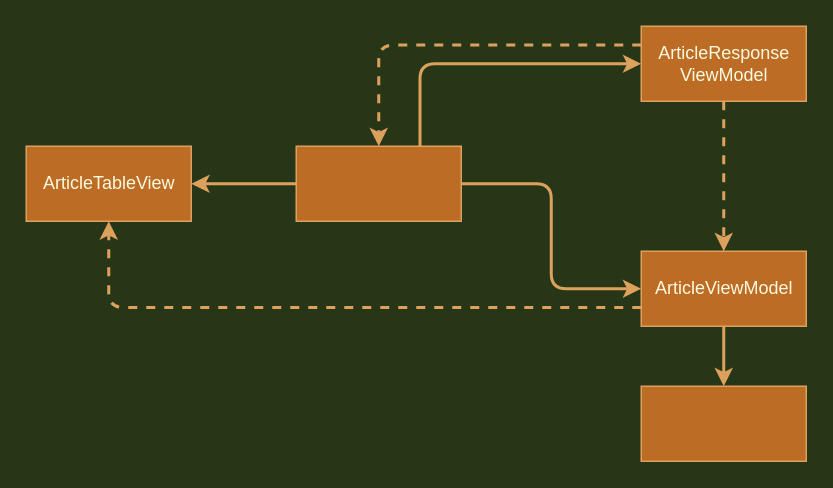
Some shapes in this 833 by 488 pixel diagram are drawn without their labels. Here are the shapes that lost their labels. From the top down, the centre of each, then its label:
At (378,183): "ViewController".
At (723,423): "Article".
